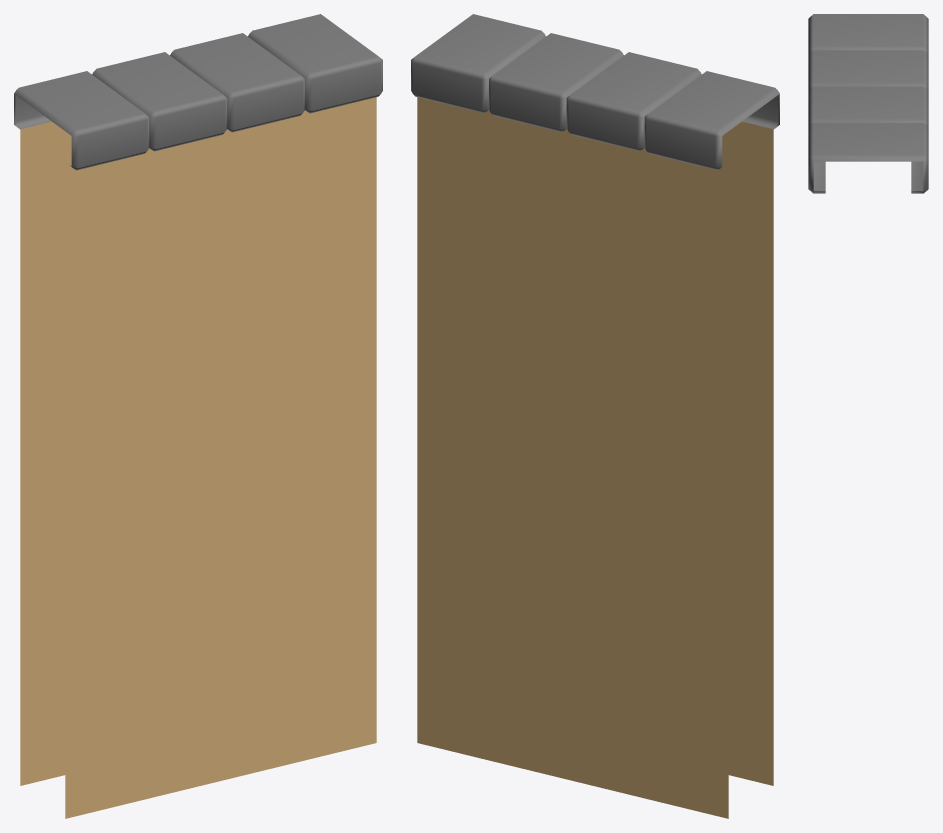
The model's file is SM_WallB_4x8_LOD0.fbx.
3 renders of one model, left to right at view 1: azimuth 30°, elevation 25°; view 2: azimuth 150°, elevation 25°; view 3: azimuth 270°, elevation 25°, orthographic. The views are drawn at different scales.
Parts seen in each view (by area): view 1: SM_WallB_4x8_LOD0; view 2: SM_WallB_4x8_LOD0; view 3: SM_WallB_4x8_LOD0.
Boxes of the visible parts, x1,y1,x2,y2 form: SM_WallB_4x8_LOD0: [14, 14, 382, 818]; SM_WallB_4x8_LOD0: [411, 14, 779, 818]; SM_WallB_4x8_LOD0: [808, 14, 928, 193].
Bounding box in the file's own units: 4 × 8.5 × 1.4.
